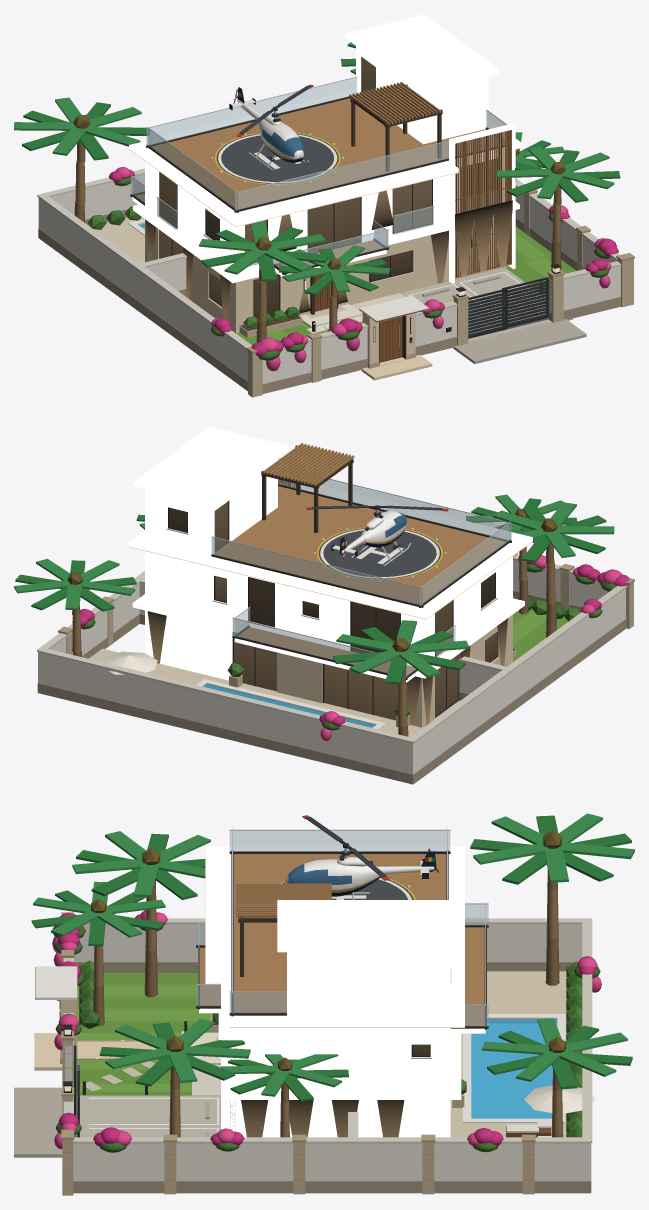
The model's file is villa.glb.
The picture shows the model from 3 angles, top to bottom: view 1: azimuth 30°, elevation 25°; view 2: azimuth 150°, elevation 25°; view 3: azimuth 270°, elevation 25°; orthographic projection. The views are drawn at different scales.
Visible parts, largest first — view 1: villa:plain, villa-facade:trim, villa-facade:render, villa:leaves, villa-facade:lights, villa-facade:glass, villa-facade:stone, villa-gate, villa:pave, villa:trunks, villa-entrance, helicopter-body (+2 smaller); view 2: villa:plain, villa-facade:render, villa-facade:trim, villa:leaves, villa-facade:lights, villa-facade:glass, villa-facade:stone, villa:trunks, helicopter-body, villa:water; view 3: villa:plain, villa-facade:render, villa:leaves, villa-facade:trim, villa-facade:glass, villa:pave, villa:water, villa:trunks, villa-facade:lights, helicopter-body, villa-entrance, helicopter-glass.
Boxes of the visible parts, x1=… form: villa:plain: x1=37, y1=168, x2=634, y2=397; villa-facade:trim: x1=130, y1=57, x2=511, y2=316; villa-facade:render: x1=129, y1=14, x2=522, y2=283; villa:leaves: x1=14, y1=42, x2=620, y2=371; villa-facade:lights: x1=129, y1=57, x2=522, y2=319; villa-facade:glass: x1=130, y1=77, x2=505, y2=268; villa-facade:stone: x1=145, y1=215, x2=509, y2=333; villa-gate: x1=468, y1=277, x2=548, y2=338; villa:pave: x1=350, y1=267, x2=572, y2=342; villa:trunks: x1=74, y1=140, x2=561, y2=342; villa-entrance: x1=361, y1=313, x2=432, y2=380; helicopter-body: x1=229, y1=84, x2=313, y2=170; villa:plain: x1=37, y1=522, x2=634, y2=784; villa-facade:render: x1=128, y1=426, x2=532, y2=682; villa-facade:trim: x1=166, y1=443, x2=511, y2=717; villa:leaves: x1=14, y1=458, x2=629, y2=740; villa-facade:lights: x1=129, y1=501, x2=532, y2=725; villa-facade:glass: x1=211, y1=479, x2=511, y2=677; villa-facade:stone: x1=232, y1=614, x2=512, y2=727; villa:trunks: x1=72, y1=530, x2=556, y2=736; helicopter-body: x1=306, y1=505, x2=448, y2=566; villa:water: x1=203, y1=684, x2=374, y2=727; villa:plain: x1=14, y1=912, x2=595, y2=1195; villa-facade:render: x1=199, y1=846, x2=485, y2=1137; villa:leaves: x1=31, y1=813, x2=634, y2=1152; villa-facade:trim: x1=196, y1=828, x2=488, y2=1058; villa-facade:glass: x1=196, y1=830, x2=488, y2=1026; villa:pave: x1=76, y1=1065, x2=220, y2=1137; villa:water: x1=471, y1=1019, x2=557, y2=1118; villa:trunks: x1=93, y1=869, x2=562, y2=1137; villa-facade:lights: x1=205, y1=851, x2=464, y2=1137; helicopter-body: x1=285, y1=815, x2=438, y2=899; villa-entrance: x1=34, y1=1000, x2=156, y2=1070; helicopter-glass: x1=288, y1=863, x2=351, y2=884.
Size of the model in its own units: 25.62 by 10.3 by 25.99.
